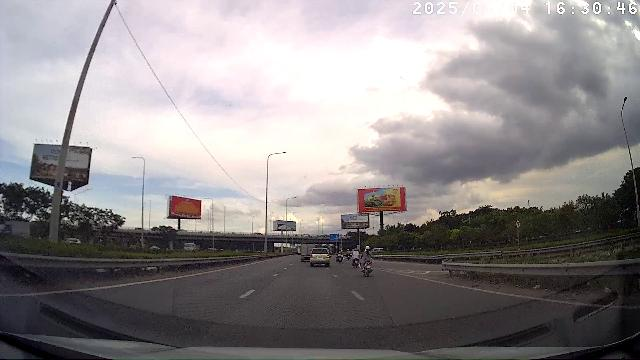123a-cam-re-trai: (516, 220, 520, 228)
